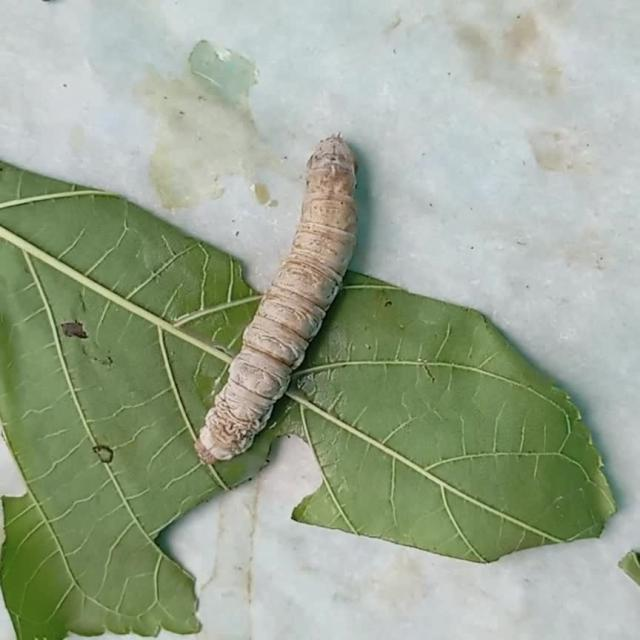Grasserie: (186, 106, 416, 476)
